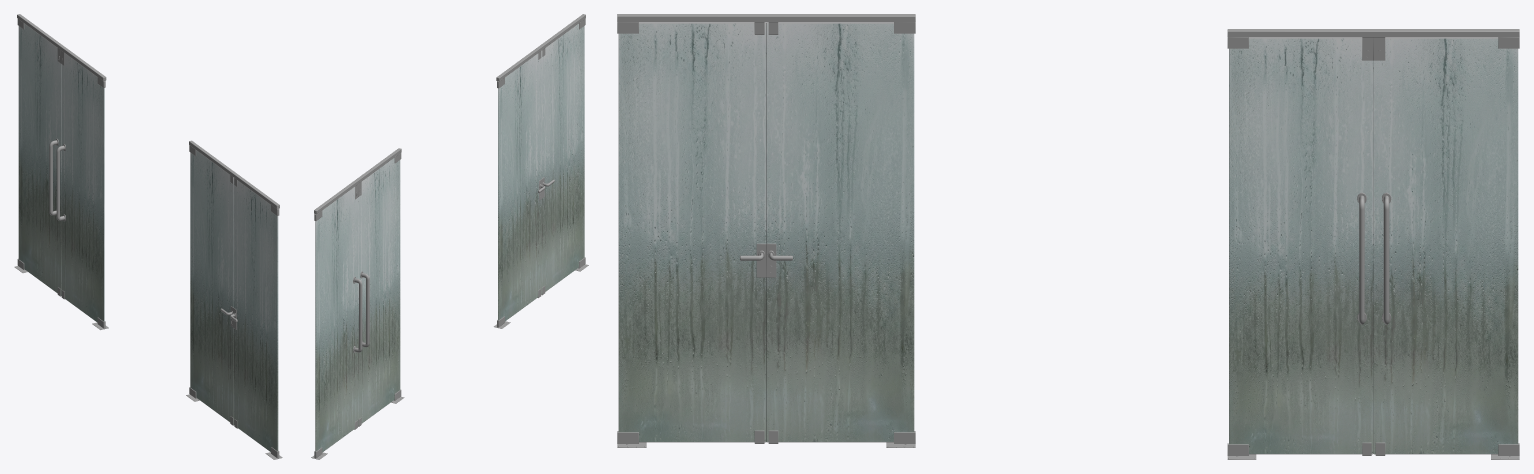
The model's file is GLASS TEXTURED DOOR.fbx.
3 views of the same model, side by side, from view 1: azimuth 30°, elevation 25°; view 2: azimuth 150°, elevation 25°; view 3: azimuth 270°, elevation 25° (orthographic). The views are drawn at different scales.
Visible parts, largest first — view 1: Glass_Door_003, Glass_Door_004; view 2: Glass_Door_003, Glass_Door_004; view 3: Glass_Door_003, Glass_Door_004.
Part boxes in pixels (box(x1,y1,x2,y2)): Glass_Door_003: box(186, 140, 282, 459); Glass_Door_004: box(14, 14, 108, 329); Glass_Door_003: box(494, 14, 588, 328); Glass_Door_004: box(311, 148, 404, 459); Glass_Door_003: box(617, 14, 915, 447); Glass_Door_004: box(1227, 29, 1519, 459).
Bounding box in the file's own units: 12.55 × 144 × 270.
Materials: 3 (2 with a texture image).
